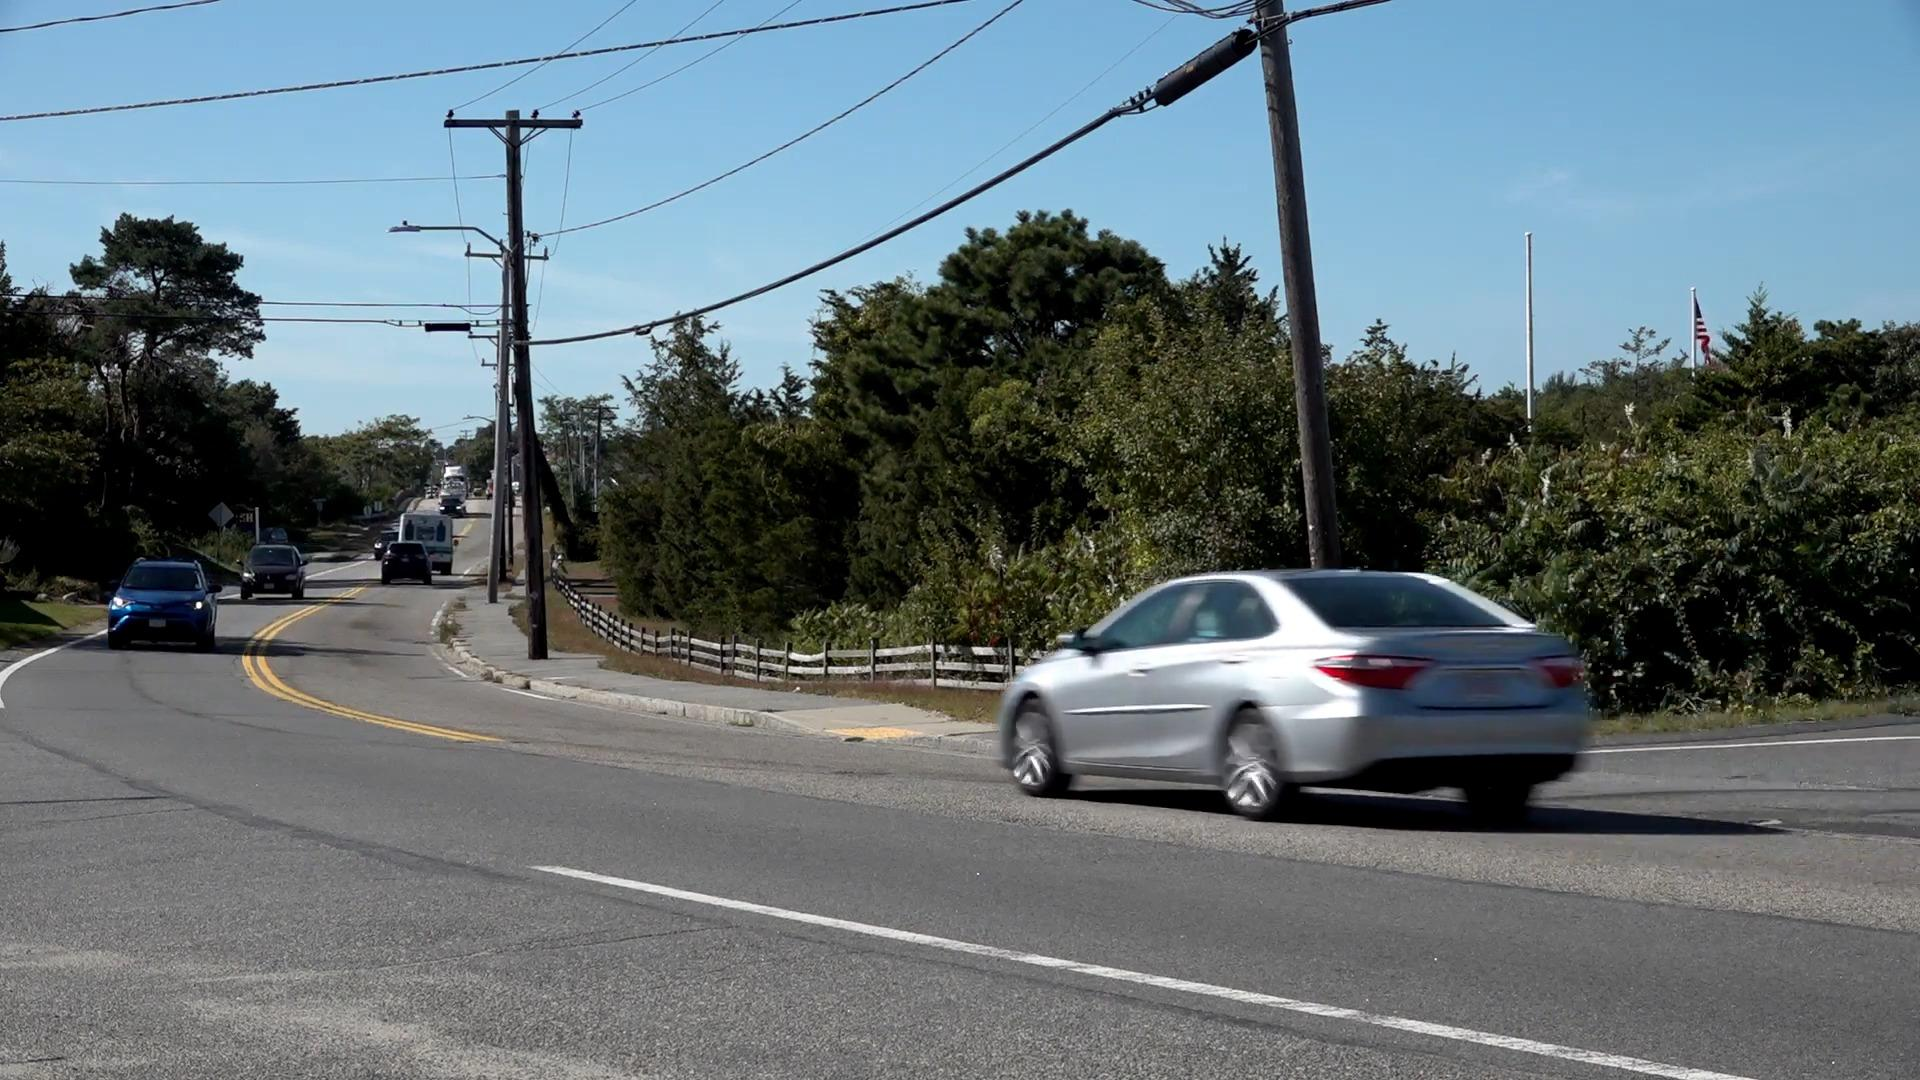sedans: (996, 562, 1592, 827)
suv: (101, 550, 222, 656)
